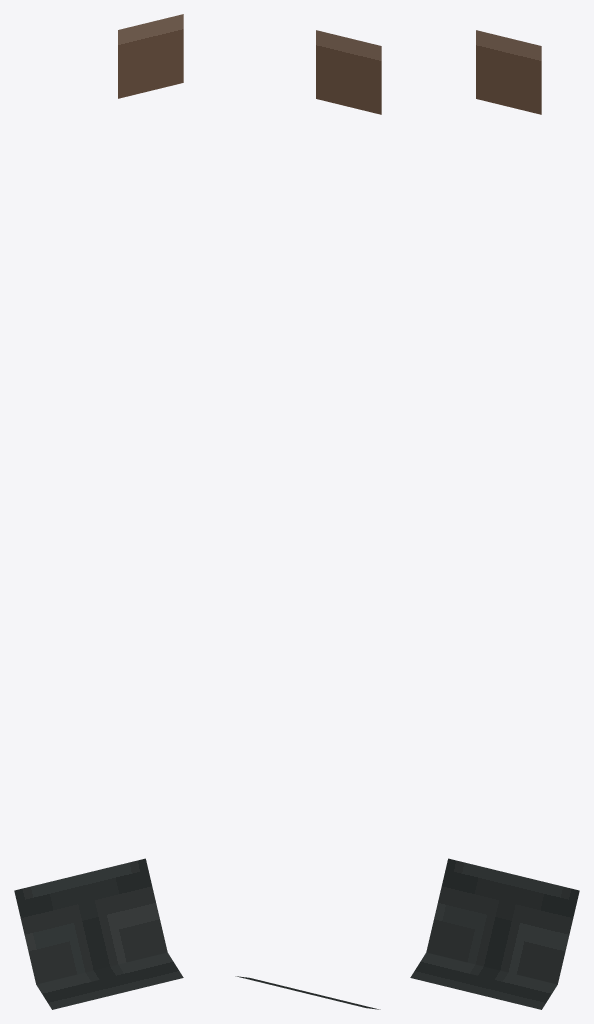
3 views of the same model, side by side, from view 1: azimuth 30°, elevation 25°; view 2: azimuth 150°, elevation 25°; view 3: azimuth 330°, elevation 25° (orthographic).
Size of the model in its own units: 1 by 7 by 0.5.
2 materials, 2 textured.
